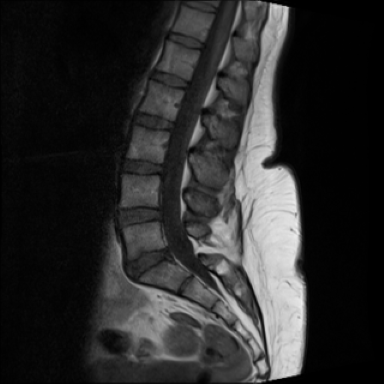Degenerative Disc Disease (DDD): (124, 243, 171, 283)
Normal IVD: (146, 67, 191, 92), (113, 207, 163, 228), (136, 108, 176, 133), (121, 156, 166, 178), (164, 30, 207, 52)
